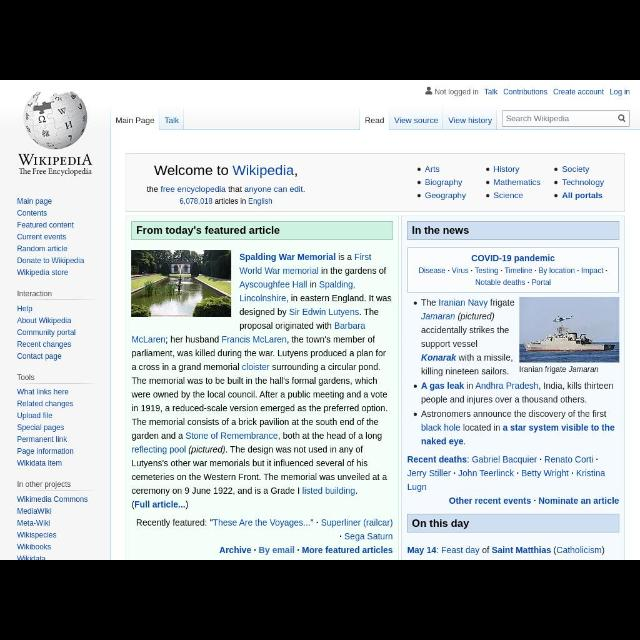icon: (615, 112, 627, 125), (411, 298, 419, 308), (415, 178, 423, 186), (412, 410, 420, 418), (415, 166, 423, 172), (416, 192, 422, 200), (484, 180, 492, 186), (484, 166, 492, 172), (411, 384, 419, 390), (484, 194, 492, 198), (554, 167, 558, 173), (554, 180, 558, 186), (554, 193, 558, 199)
image: (15, 86, 95, 176), (131, 250, 231, 316), (519, 296, 619, 362)
input: (502, 110, 630, 126)
text: (132, 334, 390, 512), (239, 250, 395, 332), (404, 453, 608, 493), (419, 409, 616, 446), (420, 296, 516, 349), (420, 380, 616, 404), (418, 266, 610, 288), (145, 185, 307, 207), (134, 518, 396, 528), (405, 544, 607, 556), (419, 353, 515, 377), (447, 495, 621, 507), (153, 164, 300, 178), (219, 545, 397, 555), (134, 224, 282, 236), (469, 253, 556, 263), (16, 494, 88, 506), (411, 517, 473, 529), (410, 224, 470, 236), (337, 532, 395, 544), (518, 366, 602, 374), (505, 114, 571, 124), (14, 221, 76, 231), (15, 328, 76, 338), (14, 340, 74, 350), (15, 316, 73, 326), (16, 399, 74, 409), (13, 257, 85, 265), (14, 267, 70, 277), (16, 481, 72, 491), (16, 387, 70, 397), (446, 115, 494, 126), (561, 190, 605, 202), (15, 458, 63, 469), (16, 435, 68, 445), (16, 424, 66, 434), (14, 234, 76, 242), (14, 244, 76, 252), (493, 178, 542, 188), (15, 448, 74, 456), (15, 352, 62, 362), (14, 196, 52, 208), (424, 191, 468, 201), (562, 178, 606, 188), (392, 116, 440, 125), (16, 518, 52, 530), (492, 190, 526, 202), (116, 116, 156, 126), (554, 88, 604, 96), (424, 178, 464, 188), (13, 209, 52, 219), (17, 411, 55, 421), (16, 506, 54, 516), (16, 542, 52, 552), (436, 88, 480, 96), (504, 88, 548, 96), (17, 532, 59, 540), (492, 163, 522, 174), (15, 290, 55, 298), (610, 88, 632, 99), (15, 371, 38, 381), (562, 166, 590, 174), (363, 114, 385, 124), (163, 115, 180, 127), (16, 304, 36, 312), (483, 89, 499, 98), (424, 166, 442, 174), (16, 554, 48, 558)
toolbar: (111, 81, 639, 130)
